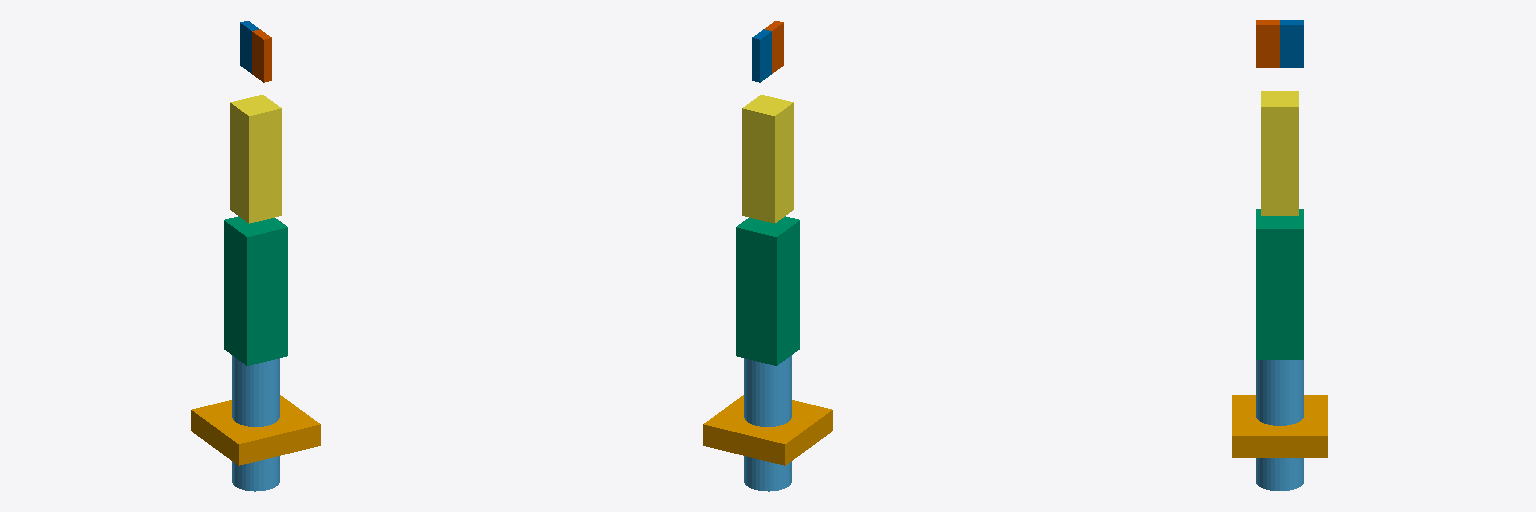
robot.urdf — cobra_arm:
<?xml version="1.0"?>
<robot name="cobra_arm">

  <!-- Base Link -->
  <link name="base_link">
    <visual>
      <geometry>
        <box size="0.2 0.2 0.05"/>
      </geometry>
      <material name="gray">
        <ambient>0.7 0.7 0.7 1</ambient>
      </material>
    </visual>
    <collision>
      <geometry>
        <box size="0.2 0.2 0.05"/>
      </geometry>
    </collision>
    <inertial>
      <mass value="2.0"/>
      <origin xyz="0 0 0" rpy="0 0 0"/>
      <inertia ixx="0.01" iyy="0.01" izz="0.01" ixy="0" ixz="0" iyz="0"/>
    </inertial>
  </link>

  <!-- Pedestal -->
  <link name="pedestal">
    <visual>
      <geometry><cylinder radius="0.05" length="0.3"/></geometry>
      <material name="blue">
        <ambient>0 0 1 1</ambient>
      </material>
    </visual>
    <collision>
      <geometry><cylinder radius="0.05" length="0.3"/></geometry>
    </collision>
    <inertial>
      <mass value="1.0"/>
      <origin xyz="0 0 0.15" rpy="0 0 0"/>
      <inertia ixx="0.005" iyy="0.005" izz="0.005" ixy="0" ixz="0" iyz="0"/>
    </inertial>
  </link>

  <!-- Arm -->
  <link name="arm">
    <visual>
      <geometry><box size="0.1 0.1 0.3"/></geometry>
      <material name="green">
        <ambient>0 1 0 1</ambient>
      </material>
    </visual>
    <collision>
      <geometry><box size="0.1 0.1 0.3"/></geometry>
    </collision>
    <inertial>
      <mass value="1.0"/>
      <origin xyz="0 0 0.15" rpy="0 0 0"/>
      <inertia ixx="0.005" iyy="0.005" izz="0.005" ixy="0" ixz="0" iyz="0"/>
    </inertial>
  </link>

  <!-- Forearm -->
  <link name="forearm">
    <visual>
      <geometry><box size="0.08 0.08 0.25"/></geometry>
      <material name="red">
        <ambient>1 0 0 1</ambient>
      </material>
    </visual>
    <collision>
      <geometry><box size="0.08 0.08 0.25"/></geometry>
    </collision>
    <inertial>
      <mass value="0.8"/>
      <origin xyz="0 0 0.125" rpy="0 0 0"/>
      <inertia ixx="0.004" iyy="0.004" izz="0.004" ixy="0" ixz="0" iyz="0"/>
    </inertial>
  </link>

  <!-- Joints -->
  <joint name="bottom_to_pedestal" type="revolute">
    <parent link="base_link"/>
    <child link="pedestal"/>
    <origin xyz="0 0 0.025" rpy="0 0 0"/>
    <axis xyz="0 0 1"/>
    <limit effort="10" velocity="1.0" lower="-3.14" upper="3.14"/>
  </joint>

  <joint name="pedestal_to_arm" type="revolute">
    <parent link="pedestal"/>
    <child link="arm"/>
    <origin xyz="0 0 0.3" rpy="0 0 0"/>
    <axis xyz="0 1 0"/>
    <limit effort="10" velocity="1.0" lower="-1.57" upper="1.57"/>
  </joint>

  <joint name="arm_to_forearm" type="revolute">
    <parent link="arm"/>
    <child link="forearm"/>
    <origin xyz="0 0 0.3" rpy="0 0 0"/>
    <axis xyz="0 1 0"/>
    <limit effort="5" velocity="1.0" lower="-1.57" upper="1.57"/>
  </joint>

  <!-- Left Gripper Finger -->
  <link name="left_gripper_link">
    <visual>
      <geometry><box size="0.02 0.05 0.1"/></geometry>
      <material name="yellow"><ambient>1 1 0 1</ambient></material>
    </visual>
    <collision>
      <geometry><box size="0.02 0.05 0.1"/></geometry>
    </collision>
    <inertial>
      <mass value="0.1"/>
      <origin xyz="0 0 0.05" rpy="0 0 0"/>
      <inertia ixx="0.0001" iyy="0.0001" izz="0.0001" ixy="0" ixz="0" iyz="0"/>
    </inertial>
  </link>

  <!-- Right Gripper Finger -->
  <link name="right_gripper_link">
    <visual>
      <geometry><box size="0.02 0.05 0.1"/></geometry>
      <material name="yellow"><ambient>1 1 0 1</ambient></material>
    </visual>
    <collision>
      <geometry><box size="0.02 0.05 0.1"/></geometry>
    </collision>
    <inertial>
      <mass value="0.1"/>
      <origin xyz="0 0 0.05" rpy="0 0 0"/>
      <inertia ixx="0.0001" iyy="0.0001" izz="0.0001" ixy="0" ixz="0" iyz="0"/>
    </inertial>
  </link>

  <!-- Arm to Left Finger -->
  <joint name="left_gripper_joint" type="prismatic">
    <parent link="forearm"/>
    <child link="left_gripper_link"/>
    <origin xyz="0 0.025 0.25" rpy="0 0 0"/>
    <axis xyz="0 1 0"/>
    <limit effort="1.0" velocity="0.05" lower="0.0" upper="0.03"/>
  </joint>

  <!-- Arm to Right Finger -->
  <joint name="right_gripper_joint" type="prismatic">
    <parent link="forearm"/>
    <child link="right_gripper_link"/>
    <origin xyz="0 -0.025 0.25" rpy="0 0 0"/>
    <axis xyz="0 -1 0"/>
    <limit effort="1.0" velocity="0.05" lower="0.0" upper="0.03"/>
  </joint>

</robot>

--- What the picture shows (computed from the rendered views, not written in the file) ---
Views: 3 orthographic renders of the robot side by side, from view 1: azimuth 30°, elevation 25°; view 2: azimuth 150°, elevation 25°; view 3: azimuth 270°, elevation 25°.
Model cobra_arm with 6 links and 5 joints (3 revolute, 2 prismatic), rooted at base_link, posed all joints at 0.
Visible links, largest first — view 1: arm, forearm, base_link, pedestal, right_gripper_link, left_gripper_link; view 2: arm, forearm, base_link, pedestal, left_gripper_link, right_gripper_link; view 3: arm, forearm, base_link, pedestal, left_gripper_link, right_gripper_link.
Link boxes in pixels (x1,y1,x2,y2): arm: [224, 216, 287, 365]; forearm: [230, 95, 281, 223]; base_link: [191, 395, 320, 465]; pedestal: [232, 355, 279, 491]; right_gripper_link: [252, 29, 271, 82]; left_gripper_link: [240, 21, 258, 73]; arm: [736, 216, 799, 365]; forearm: [742, 95, 793, 223]; base_link: [703, 395, 832, 465]; pedestal: [744, 355, 791, 491]; left_gripper_link: [752, 29, 771, 82]; right_gripper_link: [765, 21, 783, 73]; arm: [1256, 209, 1303, 359]; forearm: [1261, 91, 1298, 215]; base_link: [1232, 395, 1327, 457]; pedestal: [1256, 360, 1303, 490]; left_gripper_link: [1280, 20, 1303, 67]; right_gripper_link: [1256, 20, 1279, 67].
Bounding box of the posed robot: 0.2 × 0.2 × 1.05 m (x, y, z).
Geometry: primitives only (box / cylinder / sphere), no mesh files.